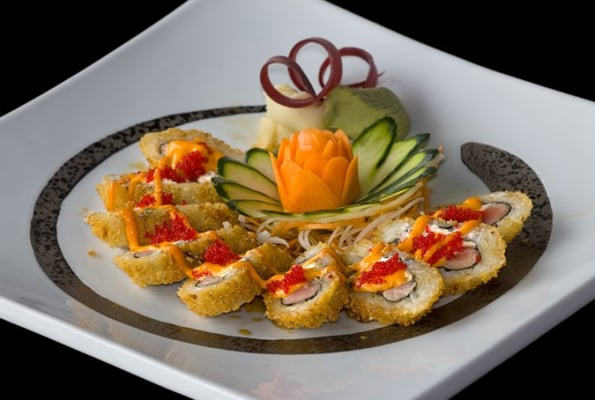curry: (2, 32, 572, 387)
